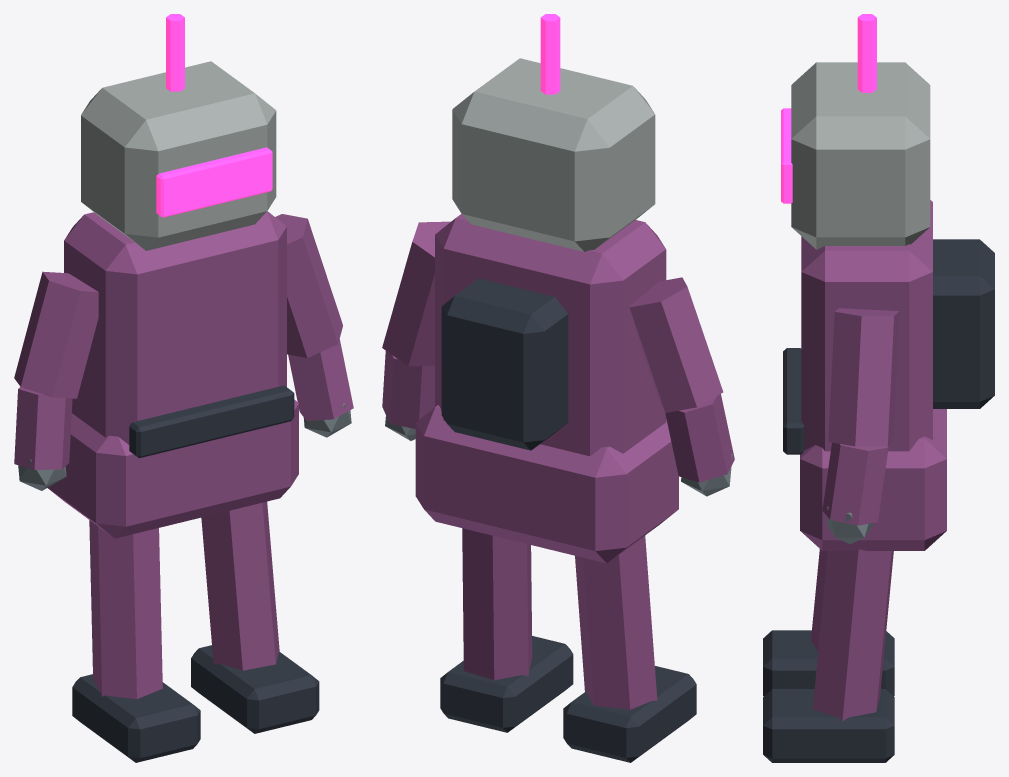
Rendered from npcs_029_seed11.glb.
The picture shows the model from 3 angles, left to right: view 1: azimuth 30°, elevation 25°; view 2: azimuth 150°, elevation 25°; view 3: azimuth 270°, elevation 25°; orthographic projection. The views are drawn at different scales.
Visible parts, largest first — view 1: npcs_029_seed11; view 2: npcs_029_seed11; view 3: npcs_029_seed11.
Part boxes in pixels (x1,y1,x2,y2): npcs_029_seed11: [14, 14, 353, 762]; npcs_029_seed11: [382, 14, 734, 762]; npcs_029_seed11: [763, 14, 994, 762].
Size of the model in its own units: 0.9168 by 1.82 by 0.5447.
